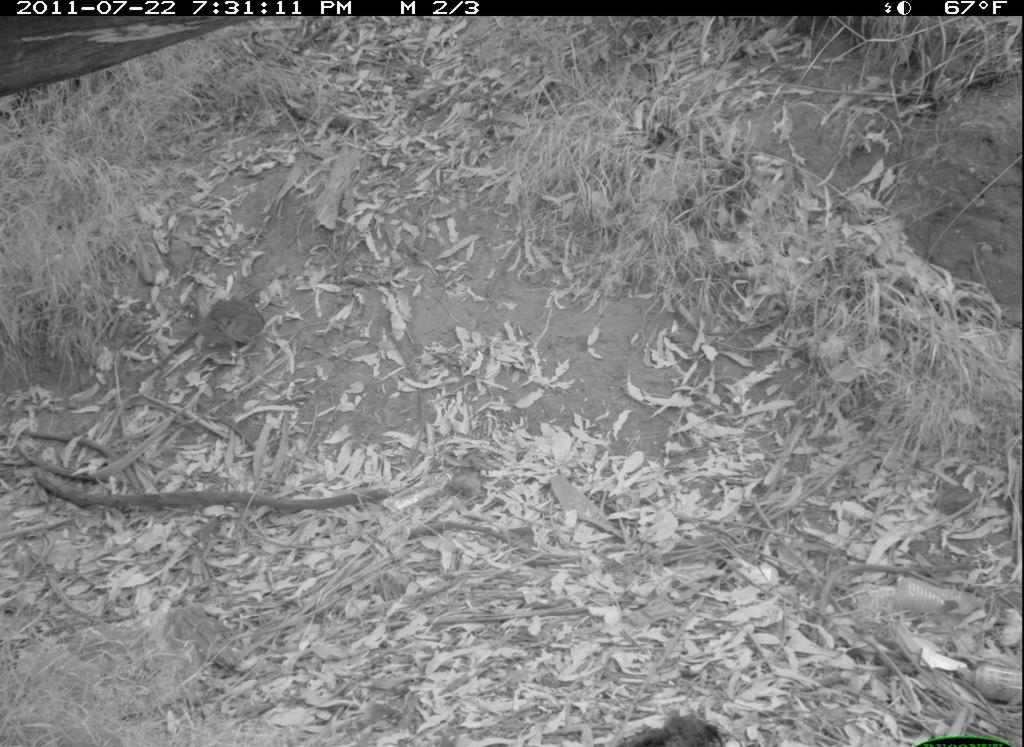rabbit: (182, 277, 271, 366)
